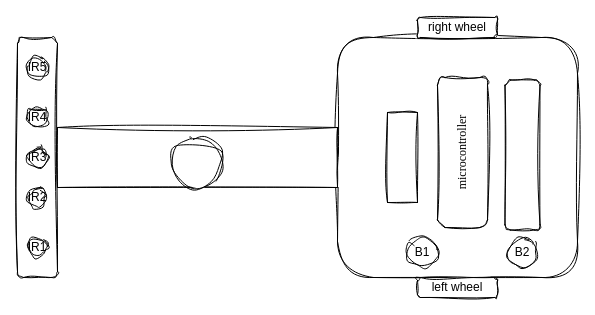
This 595x315 diagram has some shape labels left out. Each missing label, with the centre of its shape:
Battery: the point at 522,154
caster wheel: the point at 197,162
motor driver: the point at 402,157
